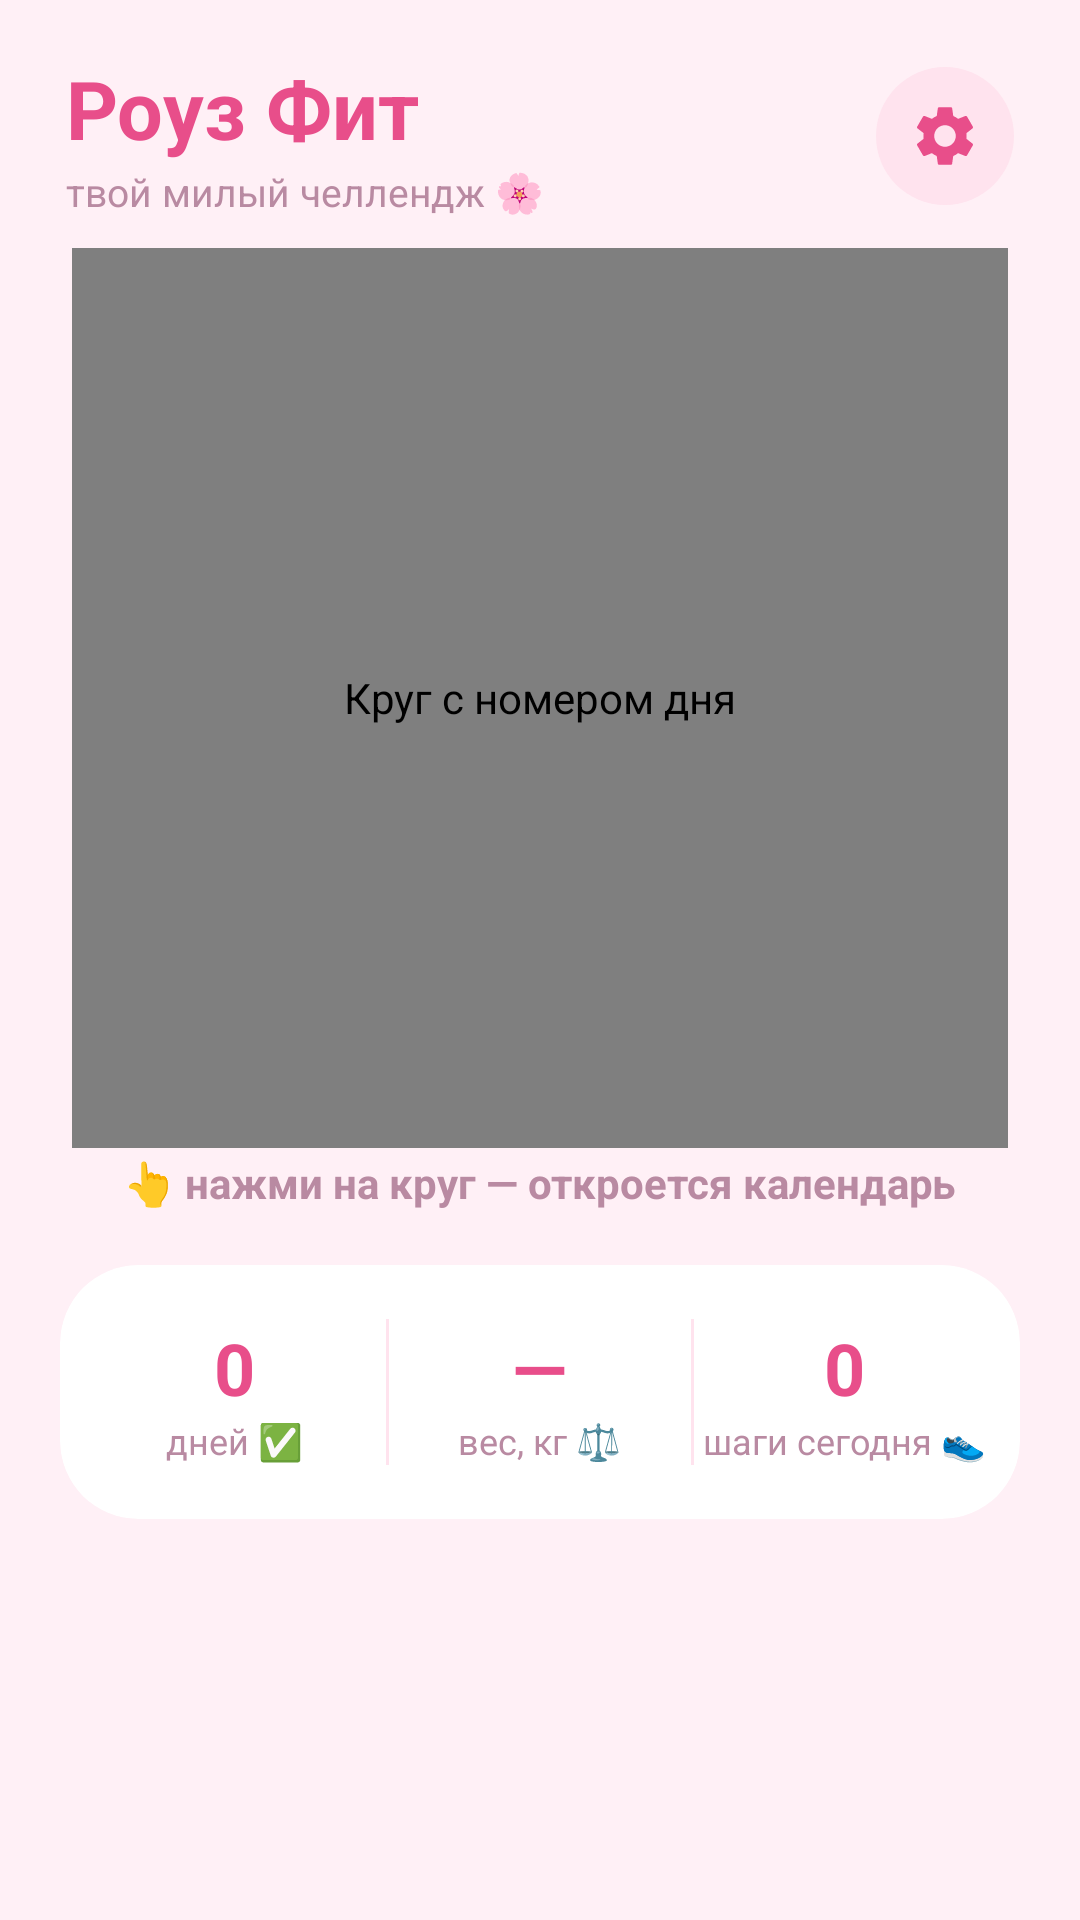

Where icons sit on this 1080w x 1920h app screen, as (x1, y1, x2, y2):
Настройки: (917, 107, 973, 165)
